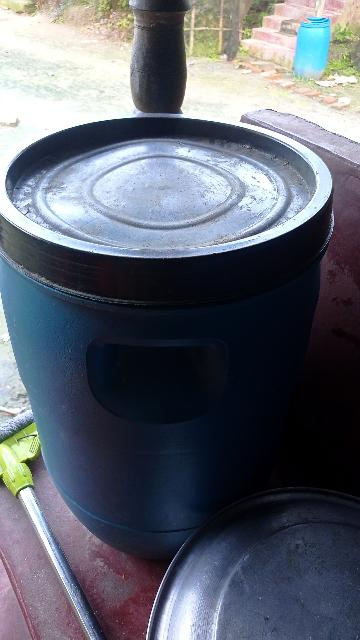hardplastic: (0, 122, 327, 544)
